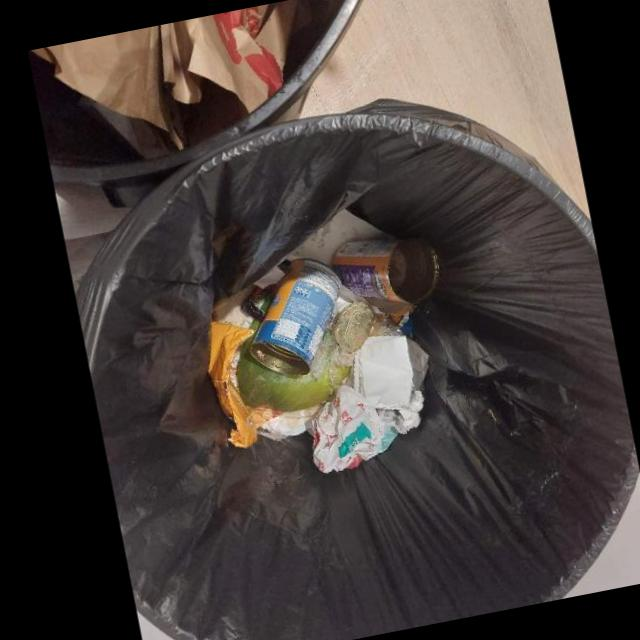bao_bi_thuc_pham: (208, 321, 273, 448)
giay: (311, 384, 399, 473), (287, 208, 396, 266), (354, 335, 416, 410), (393, 389, 425, 434)
nhom: (249, 258, 343, 376), (331, 237, 439, 304), (331, 301, 376, 352)
thuc_an_thua: (237, 318, 355, 412)
